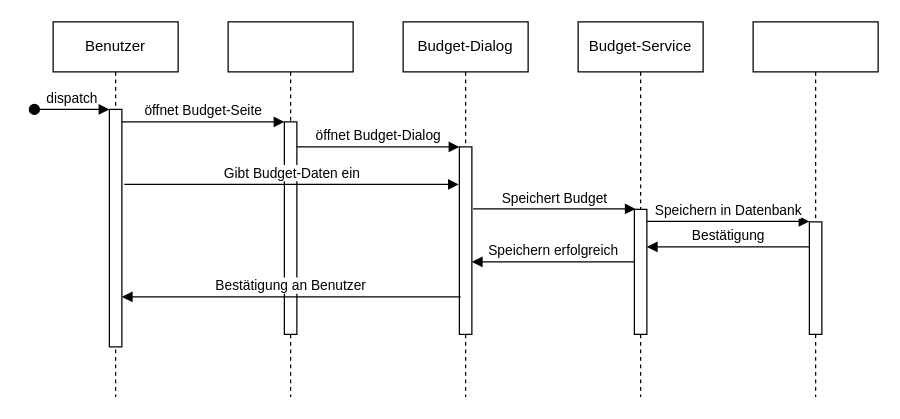
Some shapes in this 900 by 419 pixel diagram are drawn without their labels. The centre of each missing label's shape, as x and y in pixels:
Budget-Seite: (x=290, y=209)
Firebase-Datenbank: (x=815, y=209)
